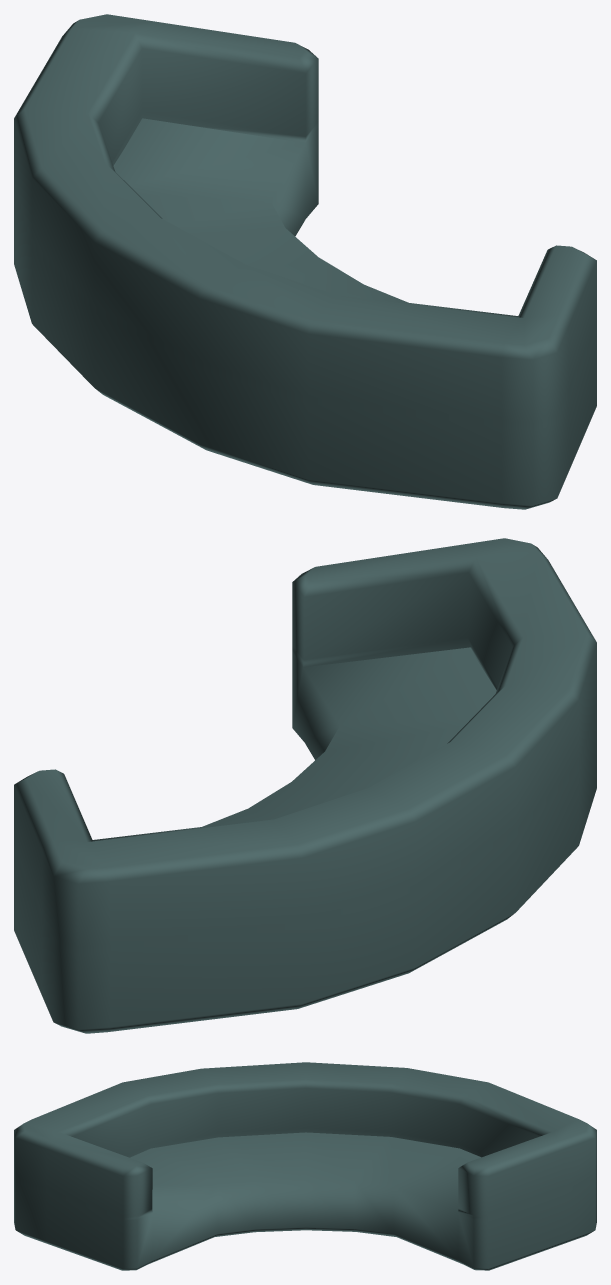
File: lvl1_couch.fbx
The picture shows the model from 3 angles, top to bottom: view 1: azimuth 30°, elevation 25°; view 2: azimuth 150°, elevation 25°; view 3: azimuth 270°, elevation 25°; orthographic projection. The views are drawn at different scales.
Visible parts, largest first — view 1: Couch; view 2: Couch; view 3: Couch.
Boxes of the visible parts, x1,y1,x2,y2 form: Couch: (14,14,596,509); Couch: (14,538,596,1033); Couch: (14,1062,596,1270).
Bounding box in the file's own units: 395 × 173 × 878.
